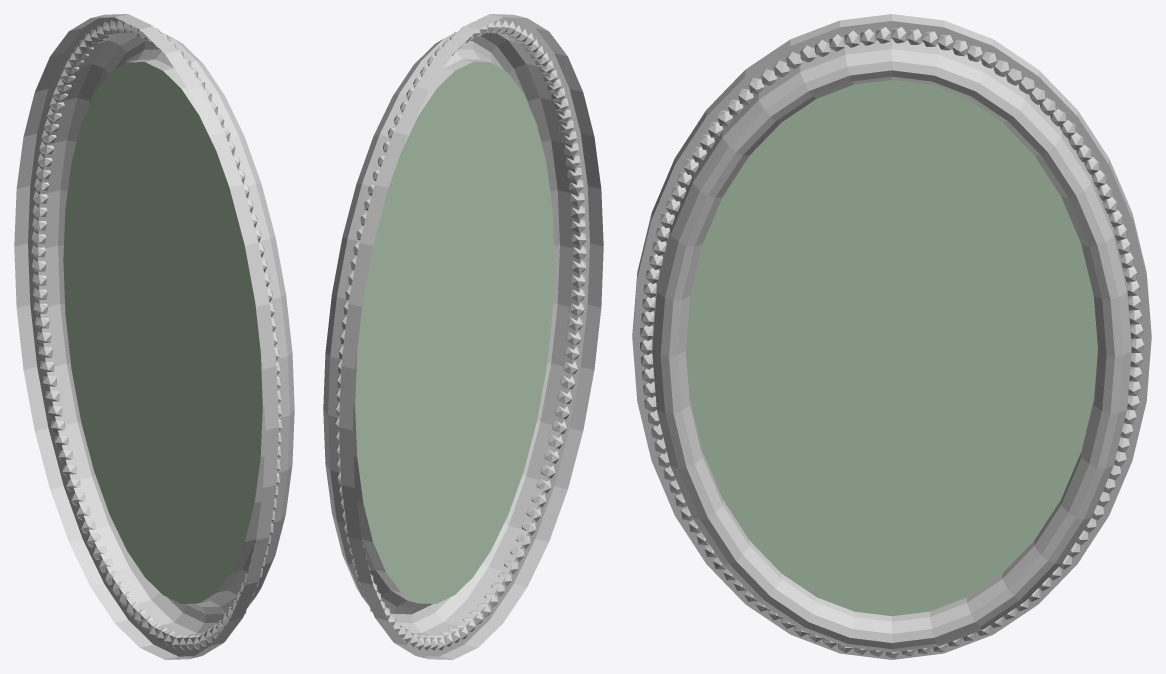
The model's file is Spiegel rund.glb.
3 views of the same model, side by side, from view 1: azimuth 30°, elevation 25°; view 2: azimuth 150°, elevation 25°; view 3: azimuth 270°, elevation 25° (orthographic). The views are drawn at different scales.
Parts seen in each view (by area): view 1: Mirror Round; view 2: Mirror Round; view 3: Mirror Round.
Boxes of the visible parts, x1,y1,x2,y2 form: Mirror Round: [14, 14, 294, 659]; Mirror Round: [323, 14, 603, 659]; Mirror Round: [632, 14, 1151, 659].
Size of the model in its own units: 0.1404 by 1.81 by 1.33.
